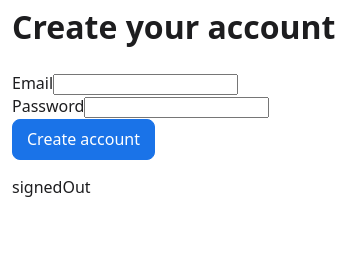
Test: SignUpForm › shows a server email error next to the email field and moves focus there
The width and height of the screenshot is (352, 269).
Step 1. Type "not-an-address" into the field labelled "Email" → (146, 85), box [53, 74, 238, 95]
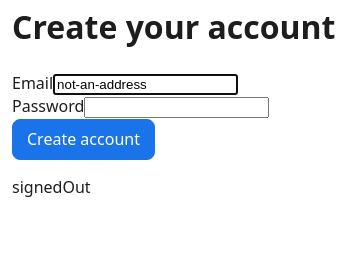
Step 2. Type "correct-horse-battery-staple-42" into the password field labelled "Password" → (177, 108), box [84, 98, 269, 118]
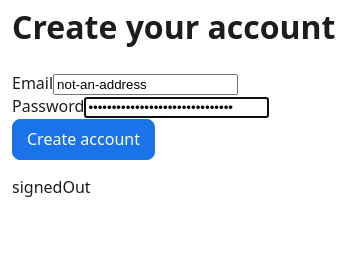
Step 3. Click the button "Create account" → (83, 139), box [12, 119, 155, 160]
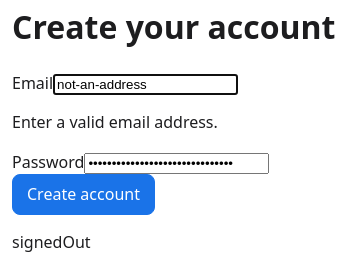
Expected: the text "Enter a valid email address." is shown, [12, 112, 218, 134]
